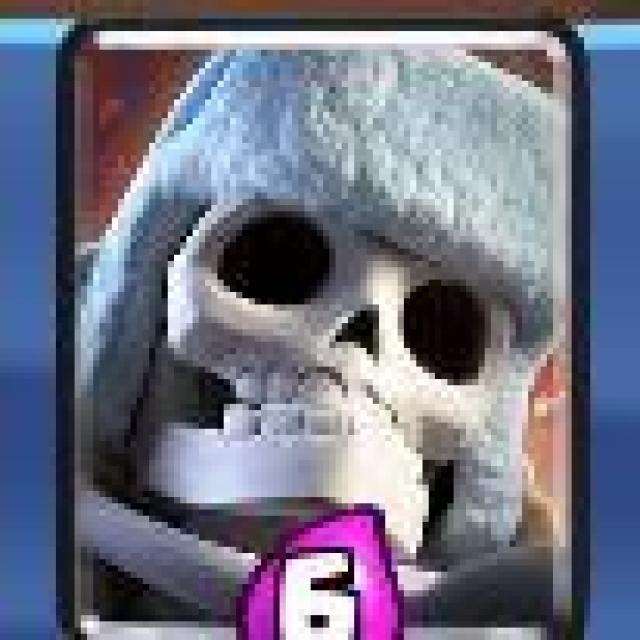Giant_Skeleton: (56, 23, 586, 640)
